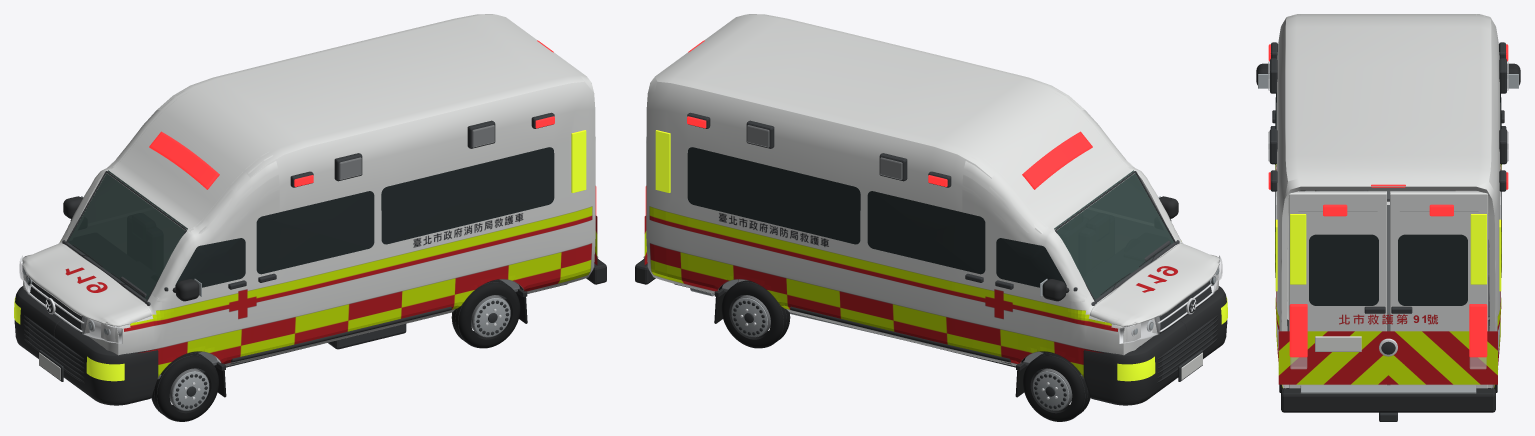
The model's file is ambulance-detailed.glb.
3 renders of one model, left to right at view 1: azimuth 30°, elevation 25°; view 2: azimuth 150°, elevation 25°; view 3: azimuth 270°, elevation 25°, orthographic. The views are drawn at different scales.
Parts seen in each view (by area): view 1: Body shell, Side livery, Bonded window Rear body, Windscreen glass, Bonded window Sliding door, Window infill A-pillar, Crowned bonnet, Front bumper moulding, Bonded window Front door, Rounded radial tyre, Rounded radial tyre.002, Roof slope integrated emergency lens (+15 smaller); view 2: Body shell, Side livery.001, Bonded window Rear body.001, Windscreen glass, Bonded window Sliding door.001, Window infill A-pillar.001, Crowned bonnet, Front bumper moulding.001, Bonded window Front door.001, Rounded radial tyre.001, Rounded radial tyre.003, Roof slope integrated emergency lens (+14 smaller); view 3: Body shell, Rear livery, Rear door, Rear door.001, Bonded window rear door, Bonded window rear door.001, Rear bumper, Window infill.006, Window infill.007, Rear step tread, Door edge flash, Door edge flash.001 (+10 smaller).
Part boxes in pixels (left/top/right/bottom): Body shell: left=23, top=14, right=595, bottom=366; Side livery: left=124, top=206, right=592, bottom=377; Bonded window Rear body: left=381, top=147, right=554, bottom=244; Windscreen glass: left=68, top=170, right=187, bottom=299; Bonded window Sliding door: left=256, top=191, right=374, bottom=274; Window infill A-pillar: left=151, top=152, right=279, bottom=302; Crowned bonnet: left=22, top=243, right=151, bottom=326; Front bumper moulding: left=54, top=320, right=158, bottom=405; Bonded window Front door: left=175, top=238, right=245, bottom=287; Rounded radial tyre: left=151, top=352, right=218, bottom=421; Rounded radial tyre.002: left=451, top=279, right=520, bottom=348; Roof slope integrated emergency lens: left=149, top=131, right=219, bottom=189; Body shell: left=646, top=14, right=1218, bottom=366; Side livery.001: left=649, top=206, right=1117, bottom=377; Bonded window Rear body.001: left=687, top=147, right=860, bottom=244; Windscreen glass: left=1054, top=170, right=1173, bottom=299; Bonded window Sliding door.001: left=867, top=191, right=985, bottom=274; Window infill A-pillar.001: left=962, top=152, right=1090, bottom=302; Crowned bonnet: left=1090, top=243, right=1219, bottom=326; Front bumper moulding.001: left=1083, top=320, right=1187, bottom=405; Bonded window Front door.001: left=996, top=238, right=1066, bottom=287; Rounded radial tyre.001: left=1023, top=352, right=1090, bottom=421; Rounded radial tyre.003: left=721, top=280, right=790, bottom=348; Roof slope integrated emergency lens: left=1022, top=131, right=1092, bottom=189; Body shell: left=1276, top=14, right=1500, bottom=388; Rear livery: left=1278, top=314, right=1497, bottom=384; Rear door: left=1288, top=191, right=1386, bottom=388; Rear door.001: left=1390, top=191, right=1488, bottom=388; Bonded window rear door: left=1309, top=234, right=1378, bottom=305; Bonded window rear door.001: left=1398, top=234, right=1467, bottom=305; Rear bumper: left=1281, top=388, right=1495, bottom=412; Window infill.006: left=1297, top=211, right=1377, bottom=272; Window infill.007: left=1399, top=211, right=1479, bottom=272; Rear step tread: left=1300, top=385, right=1476, bottom=393; Door edge flash: left=1290, top=214, right=1306, bottom=284; Door edge flash.001: left=1470, top=214, right=1486, bottom=284.
Size of the model in its own units: 5.78 by 2.68 by 2.38.
26 materials, 4 textured.
